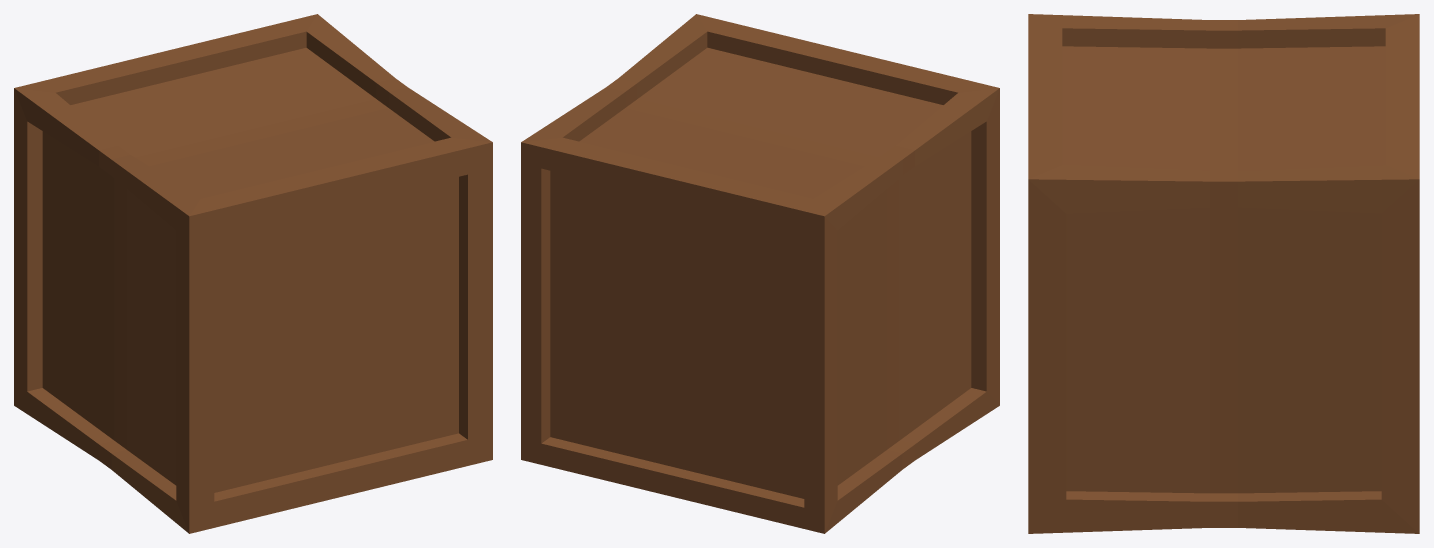
3 views of the same model, side by side, from view 1: azimuth 30°, elevation 25°; view 2: azimuth 150°, elevation 25°; view 3: azimuth 270°, elevation 25° (orthographic). The views are drawn at different scales.
Parts seen in each view (by area): view 1: box; view 2: box; view 3: box.
Boxes of the visible parts, bbox=[...] form: box: bbox=[14, 14, 492, 533]; box: bbox=[521, 14, 999, 533]; box: bbox=[1028, 14, 1419, 533].
Size of the model in its own units: 45.05 by 45.05 by 45.05.
